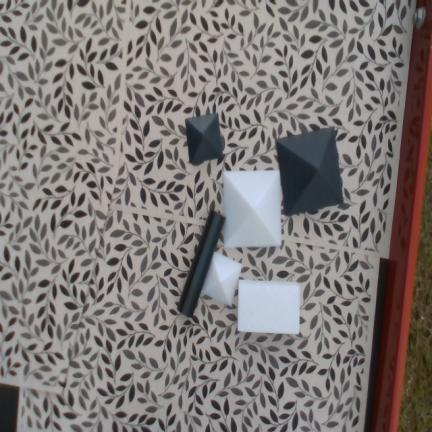Cilindro: (178, 210, 226, 318)
Paralelepipedo: (237, 280, 301, 335)
Piramide: (275, 126, 343, 216), (222, 170, 282, 248), (201, 251, 243, 307), (186, 113, 222, 162)
